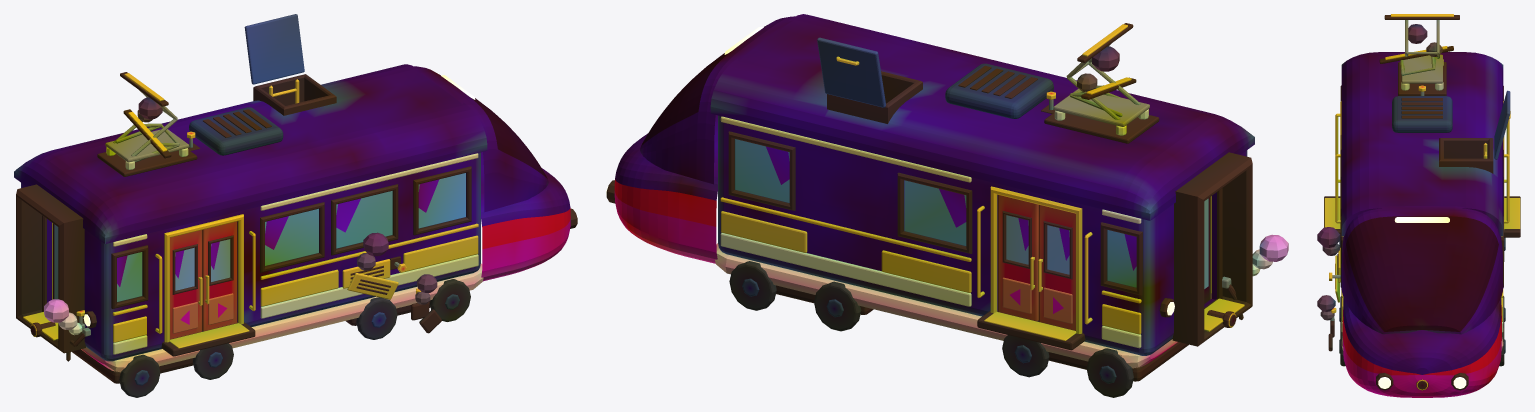
Rendered from ModernCabCar_Blockout.glb.
3 renders of one model, left to right at view 1: azimuth 30°, elevation 25°; view 2: azimuth 150°, elevation 25°; view 3: azimuth 270°, elevation 25°, orthographic. The views are drawn at different scales.
Visible parts, largest first — view 1: Roof, Body, Windows, Nose, Underframe, Livery, Ends, SideDoorLeaf_R, SideDoorLeaf_L, RoofHatch_Cab, SideDoorSill, SideDoorFrame (+7 smaller); view 2: Roof, Body, Nose, Underframe, Livery, Windows, Ends, SideDoorLeaf_R_Far, SideDoorLeaf_L_Far, RoofHatch_Cab, SideDoorSill_Far, SideDoorFrame_Far (+4 smaller); view 3: Nose, Roof, Broken_Bits__Pantograph, SideDoorSill_Far, SideDoorSill, Fixed_Rail__Pantograph, Broken_Bits__Converter, RoofHatch_Cab, Underframe, Windows, Broken_Bits__AxleBox, Livery.
Part boxes in pixels (<box>): Roof: <box>14,64,487,243</box>; Body: <box>21,152,480,361</box>; Windows: <box>111,166,471,308</box>; Nose: <box>414,66,577,281</box>; Underframe: <box>71,263,483,397</box>; Livery: <box>112,153,478,354</box>; Ends: <box>16,184,96,353</box>; SideDoorLeaf_R: <box>202,221,237,330</box>; SideDoorLeaf_L: <box>170,230,202,339</box>; RoofHatch_Cab: <box>244,14,304,84</box>; SideDoorSill: <box>155,231,255,356</box>; SideDoorFrame: <box>164,214,243,342</box>; Roof: <box>710,14,1254,220</box>; Body: <box>718,115,1247,355</box>; Nose: <box>606,16,795,263</box>; Underframe: <box>715,243,1188,397</box>; Livery: <box>720,116,1141,348</box>; Windows: <box>728,131,1142,295</box>; Ends: <box>1159,152,1252,346</box>; SideDoorLeaf_R_Far: <box>998,195,1038,320</box>; SideDoorLeaf_L_Far: <box>1038,205,1075,330</box>; RoofHatch_Cab: <box>817,37,885,107</box>; SideDoorSill_Far: <box>977,206,1092,350</box>; SideDoorFrame_Far: <box>990,186,1082,333</box>; Nose: <box>1341,206,1503,397</box>; Roof: <box>1341,52,1503,235</box>; Broken_Bits__Pantograph: <box>1379,24,1453,75</box>; SideDoorSill_Far: <box>1504,119,1520,237</box>; SideDoorSill: <box>1324,113,1340,237</box>; Fixed_Rail__Pantograph: <box>1384,14,1459,58</box>; Broken_Bits__Converter: <box>1317,227,1340,302</box>; RoofHatch_Cab: <box>1494,90,1510,159</box>; Underframe: <box>1339,237,1505,366</box>; Windows: <box>1340,85,1503,287</box>; Broken_Bits__AxleBox: <box>1317,295,1335,351</box>; Livery: <box>1341,236,1503,332</box>.
Size of the model in its own units: 9.09 by 4.29 by 3.35.
